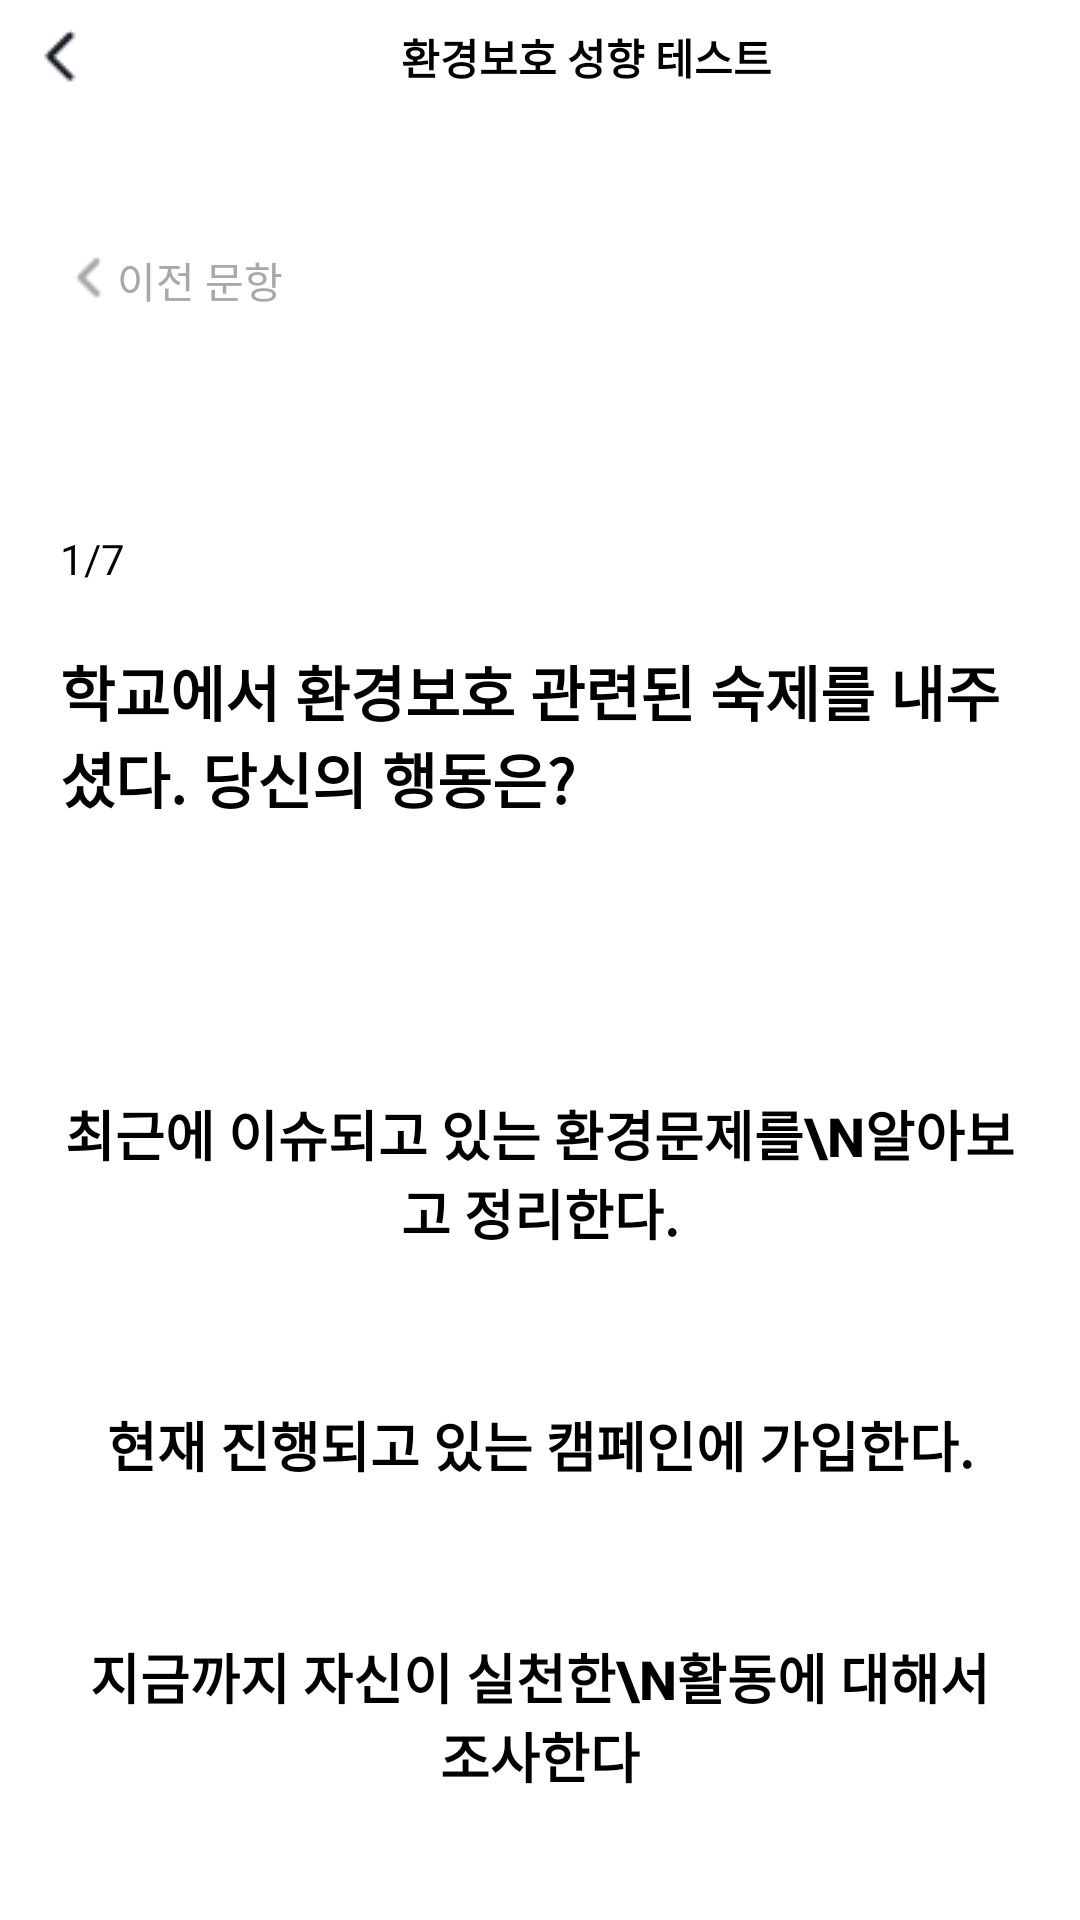

Point at icon controls on the screen. Image size 1080x1920, points as point (x, y).
backicon: point (60, 56)
greybackicon: point (88, 277)
